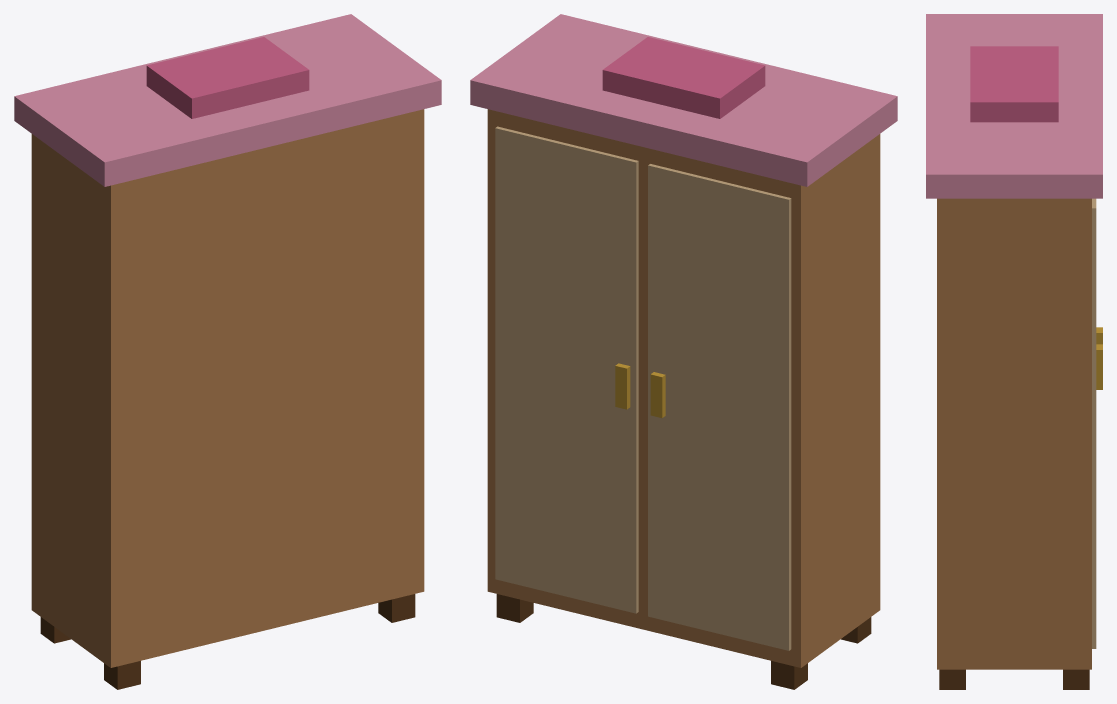
File: ncb-wardrobe.glb
The picture shows the model from 3 angles, left to right: view 1: azimuth 30°, elevation 25°; view 2: azimuth 150°, elevation 25°; view 3: azimuth 270°, elevation 25°; orthographic projection. The views are drawn at different scales.
Visible parts, largest first — view 1: box-prop; view 2: box-prop; view 3: box-prop.
Part boxes in pixels (box(x1,y1,x2,y2)): box-prop: box(14, 14, 441, 689); box-prop: box(470, 14, 897, 689); box-prop: box(926, 14, 1102, 689).
Bounding box in the file's own units: 1.72 × 2.72 × 0.8.
